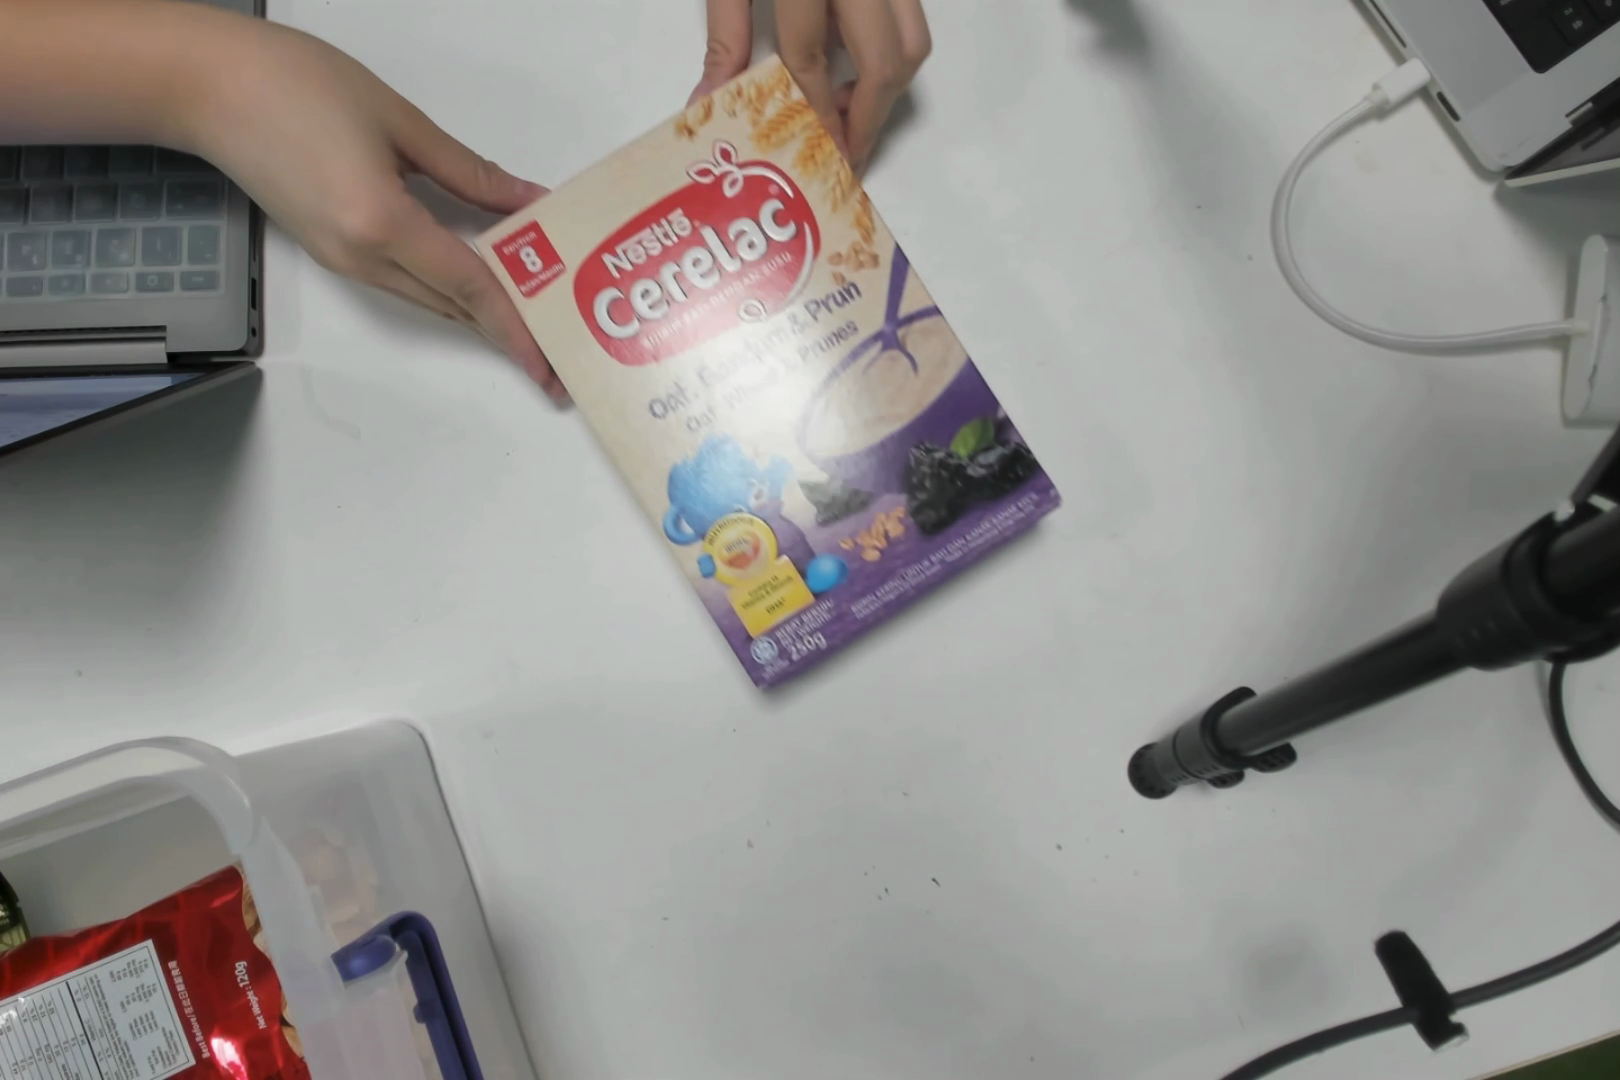b: (586, 163, 1005, 650)
